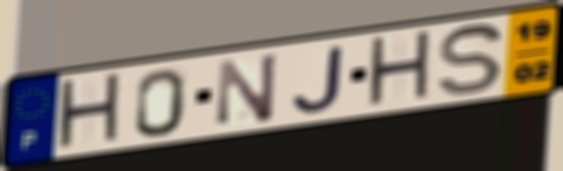0: (132, 66, 190, 139)
H: (364, 27, 435, 112), (54, 70, 124, 155)
J: (289, 42, 348, 115)
N: (215, 50, 281, 128)
S: (436, 22, 507, 98)
